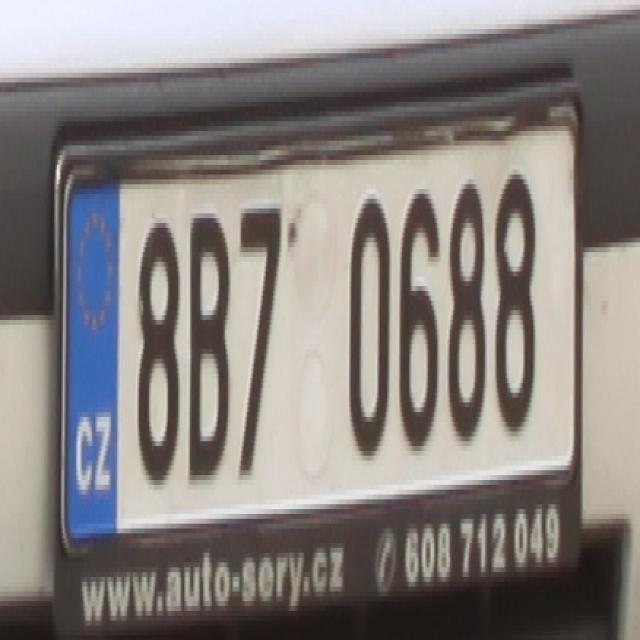0: (348, 198, 390, 461)
6: (398, 194, 438, 451)
7: (240, 204, 284, 480)
8: (491, 165, 533, 431), (136, 218, 177, 475), (447, 175, 485, 441)
B: (188, 208, 231, 485)
